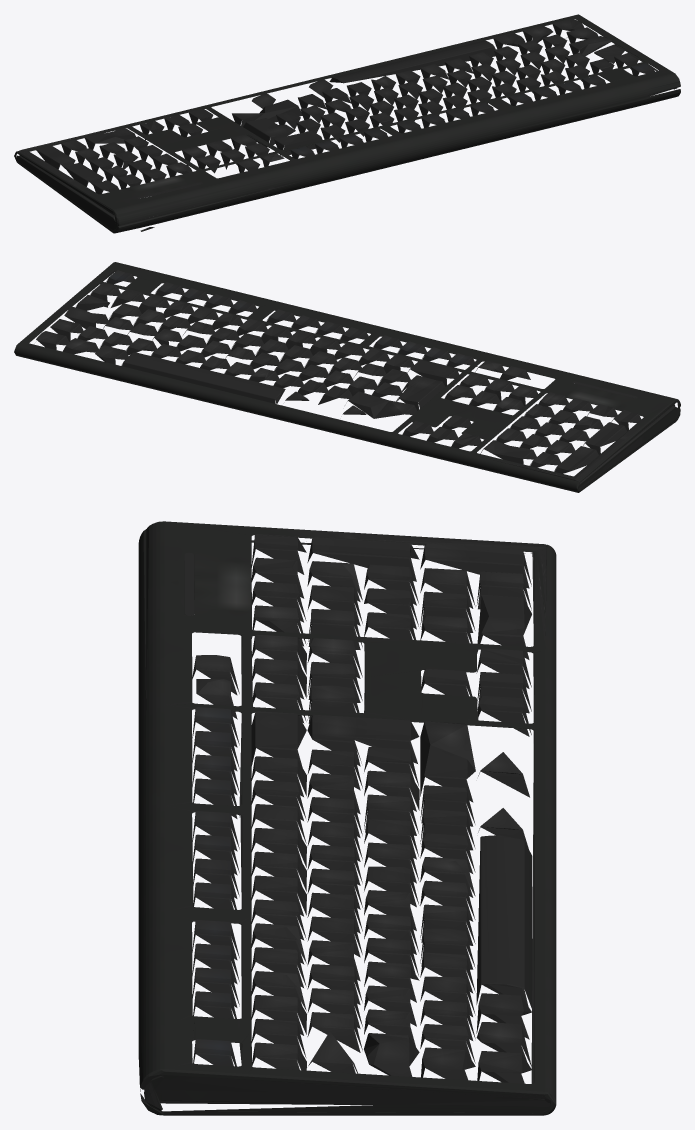
The model's file is computer_keyboard_a01.glb.
3 renders of one model, top to bottom at view 1: azimuth 30°, elevation 25°; view 2: azimuth 150°, elevation 25°; view 3: azimuth 270°, elevation 25°, orthographic. The views are drawn at different scales.
Parts seen in each view (by area): view 1: geometry_0; view 2: geometry_0; view 3: geometry_0.
Part boxes in pixels (x1,y1,x2,y2): geometry_0: [14, 14, 680, 233]; geometry_0: [14, 262, 680, 492]; geometry_0: [138, 521, 556, 1115].
Bounding box in the file's own units: 0.42 × 0.0199 × 0.1348.
1 material, 1 textured.
